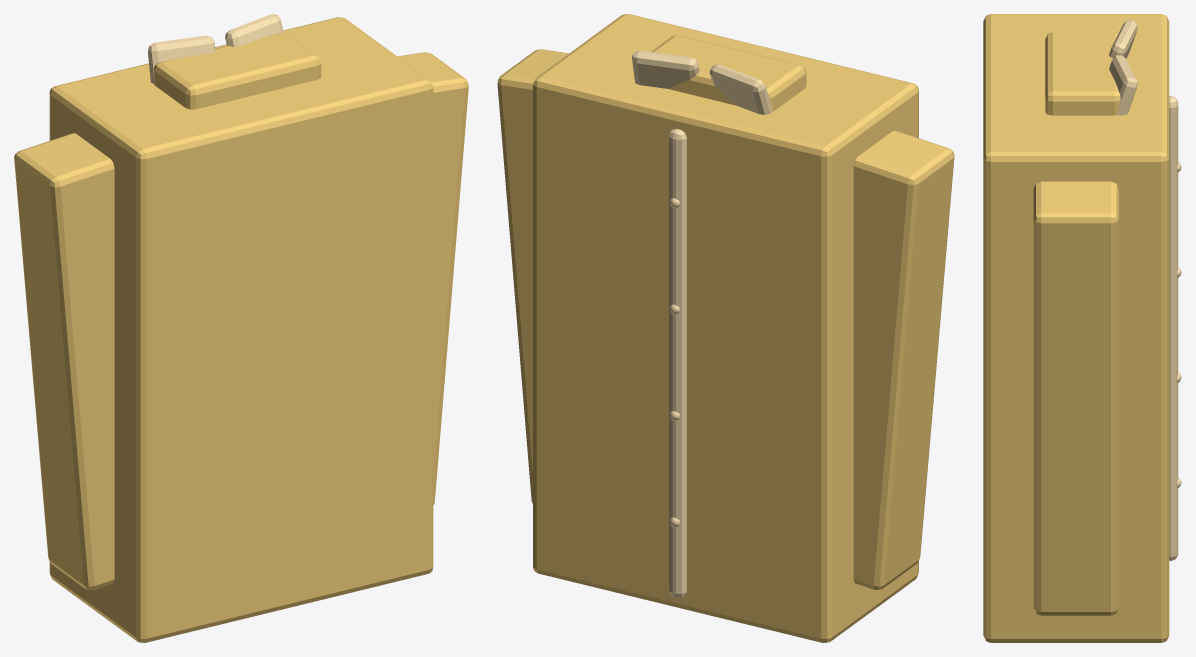
Rendered from VM-DAM-FS20.glb.
The picture shows the model from 3 angles, left to right: view 1: azimuth 30°, elevation 25°; view 2: azimuth 150°, elevation 25°; view 3: azimuth 270°, elevation 25°; orthographic projection.
Visible parts, largest first — view 1: Camisa Mujer Casual de Algodón; view 2: Camisa Mujer Casual de Algodón; view 3: Camisa Mujer Casual de Algodón.
Part boxes in pixels (<box>): Camisa Mujer Casual de Algodón: <box>14,14,468,642</box>; Camisa Mujer Casual de Algodón: <box>497,14,954,642</box>; Camisa Mujer Casual de Algodón: <box>983,14,1181,642</box>.
Size of the model in its own units: 0.6202 by 0.7483 by 0.256.
